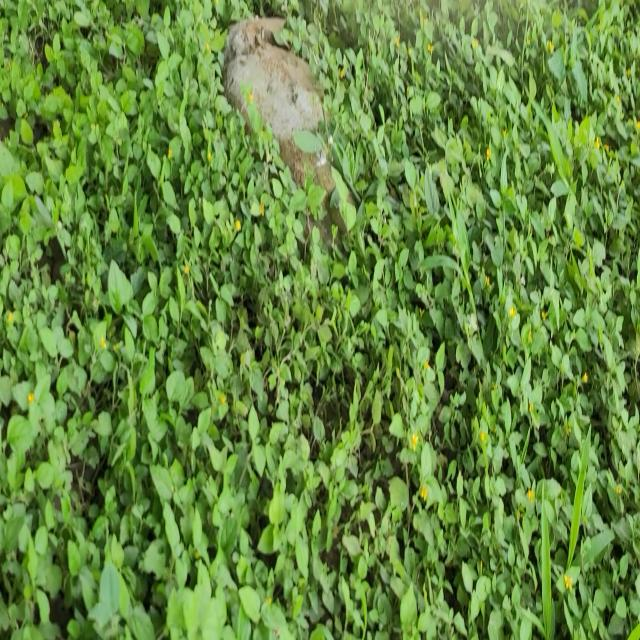grass: (0, 0, 640, 639)
stone: (445, 119, 470, 161), (448, 64, 459, 79)
